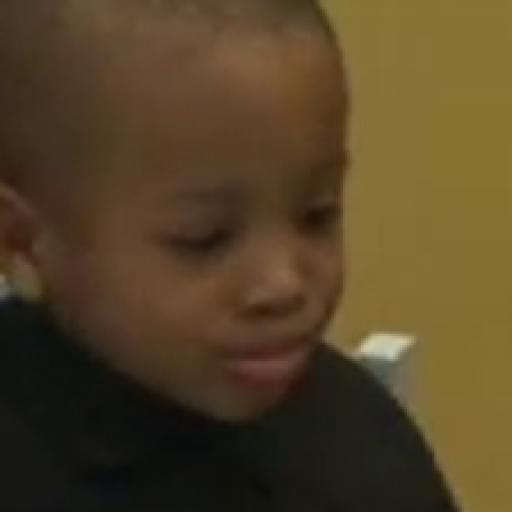Autism: (2, 1, 399, 454)
